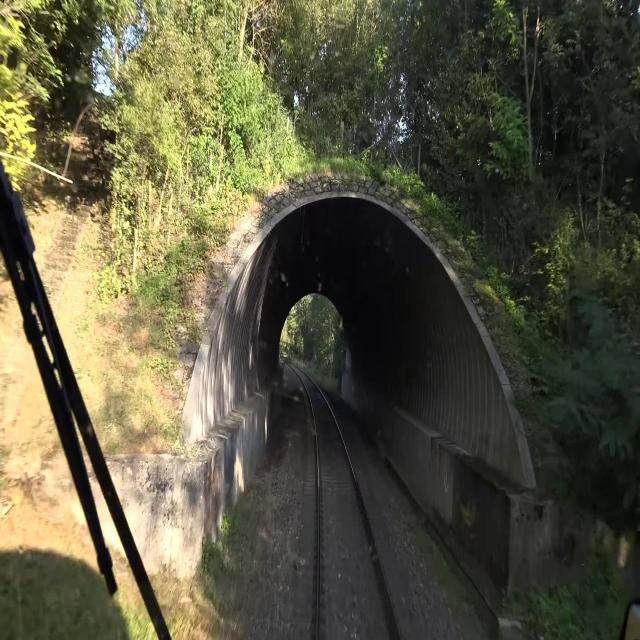rail-track: (300, 373, 398, 639)
